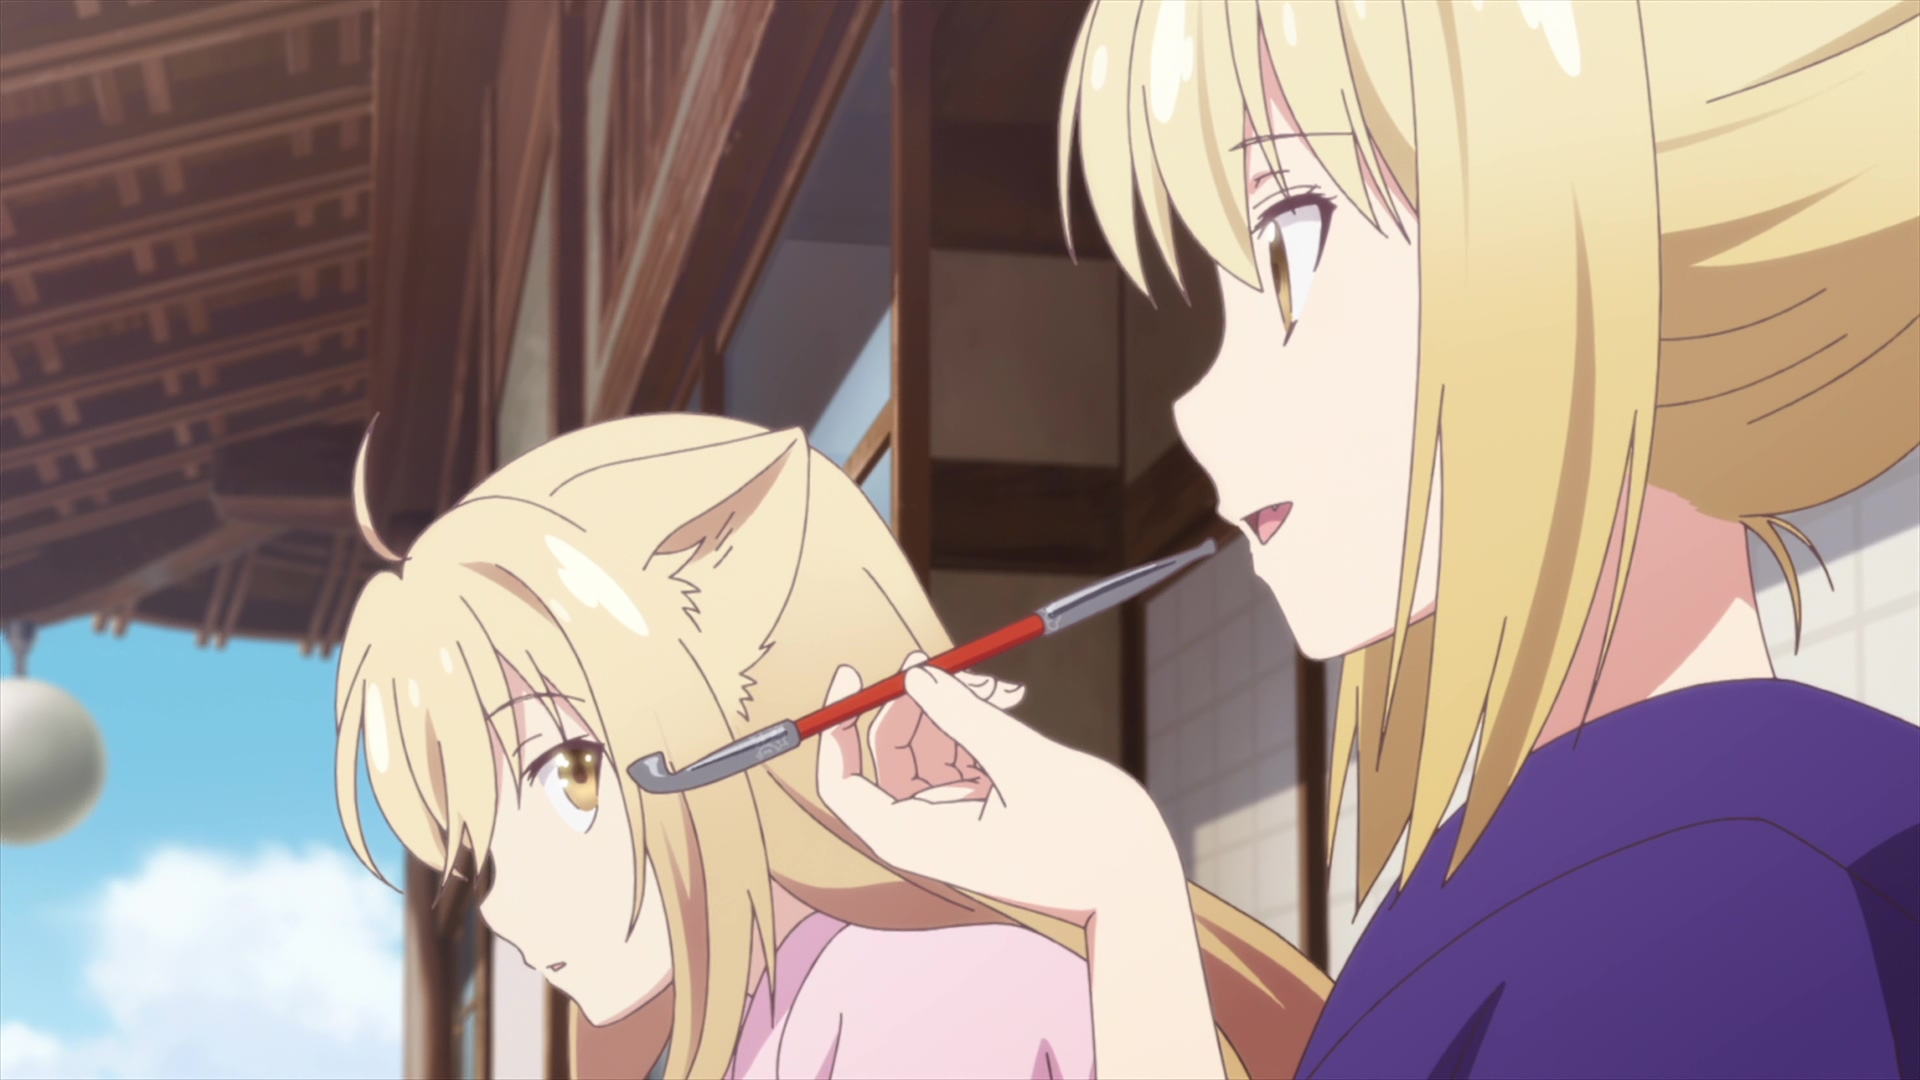柚: (336, 409, 1336, 1080)
桐: (626, 1, 1920, 1080)
